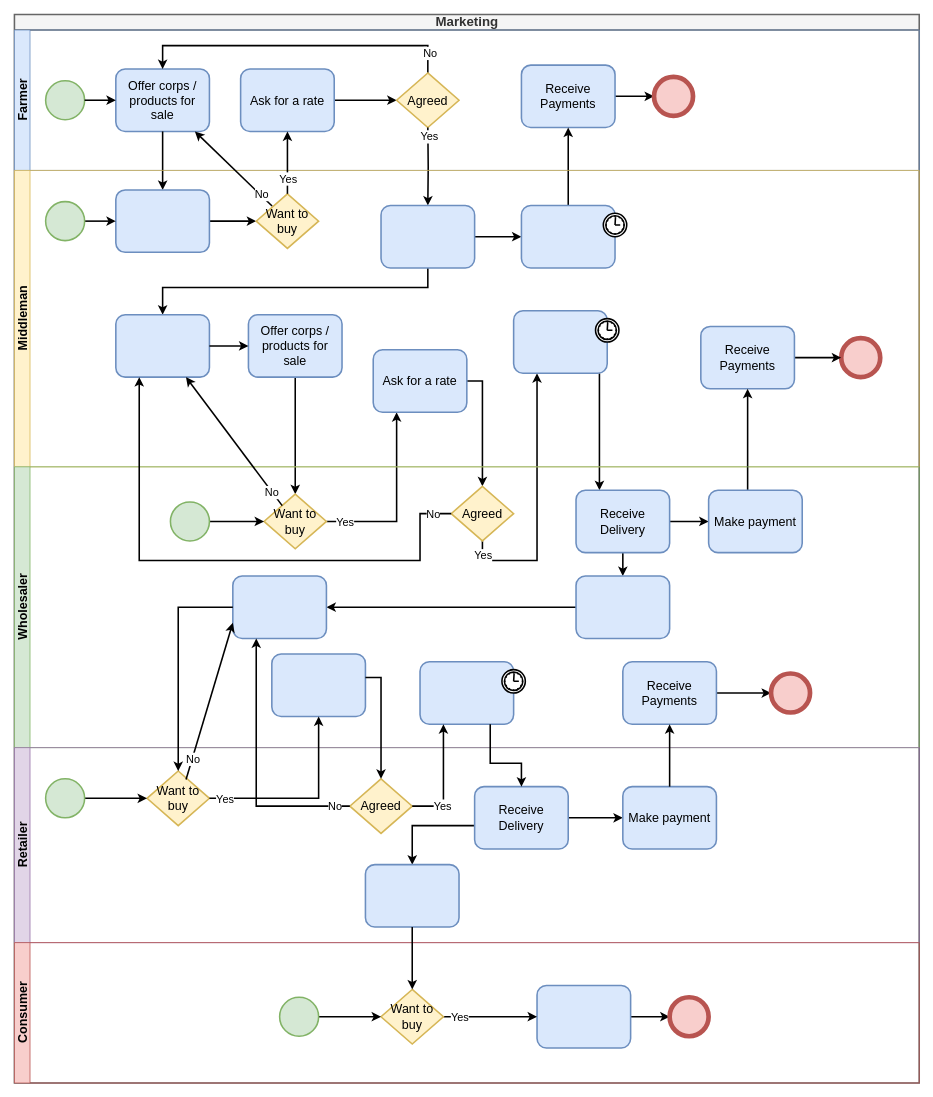
Some shapes in this 933 by 1097 pixel diagram are drawn without their labels. Here are the shapes that lost their labels. From the top down, the centre of each, then its label:
At point (162, 221): "Check products".
At point (427, 236): "Buy the products".
At point (567, 236): "Process Payment".
At point (162, 346): "Contact with wholesaler".
At point (560, 342): "Arrange deliveries".
At point (279, 607): "Communicate with retailer.".
At point (622, 607): "Store product".
At point (318, 685): "Negotiate".
At point (466, 693): "Deliver product".
At point (411, 895): "Market Product".
At point (583, 1016): "Buy products".
